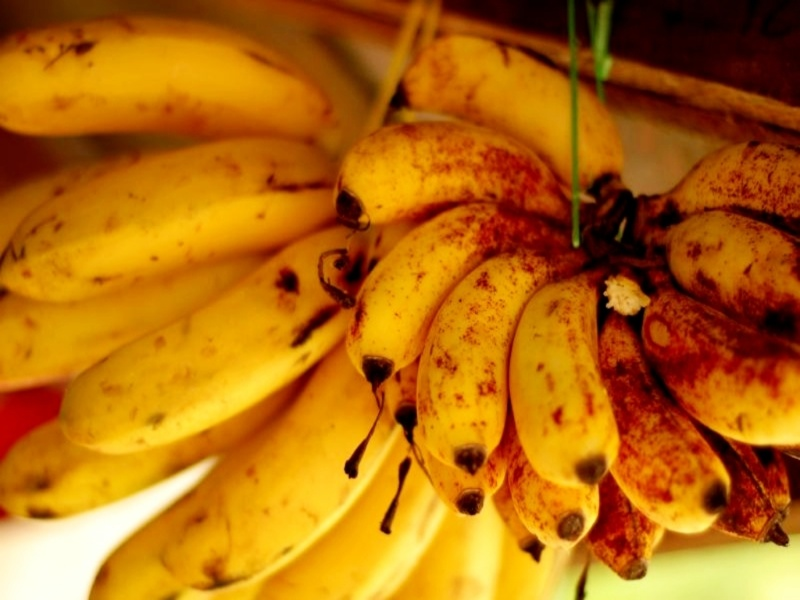banana: (327, 115, 800, 582), (2, 280, 395, 600), (377, 17, 660, 213), (3, 9, 343, 144), (6, 141, 338, 271), (340, 102, 606, 253)
